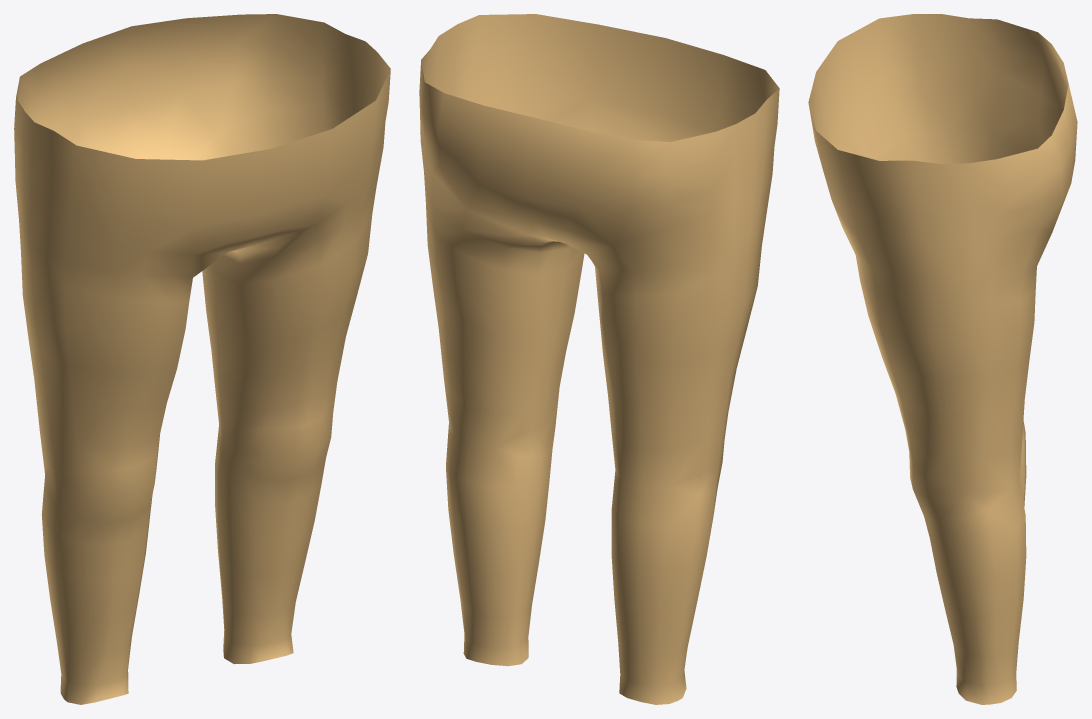
The model's file is Pants_01.fbx.
The picture shows the model from 3 angles, left to right: view 1: azimuth 30°, elevation 25°; view 2: azimuth 150°, elevation 25°; view 3: azimuth 270°, elevation 25°; orthographic projection. The views are drawn at different scales.
Parts seen in each view (by area): view 1: Pants_01; view 2: Pants_01; view 3: Pants_01.
Part boxes in pixels (x1,y1,x2,y2): Pants_01: [14, 14, 390, 704]; Pants_01: [419, 14, 779, 704]; Pants_01: [808, 14, 1077, 704].
Bounding box in the file's own units: 35.43 × 62.59 × 26.75.
